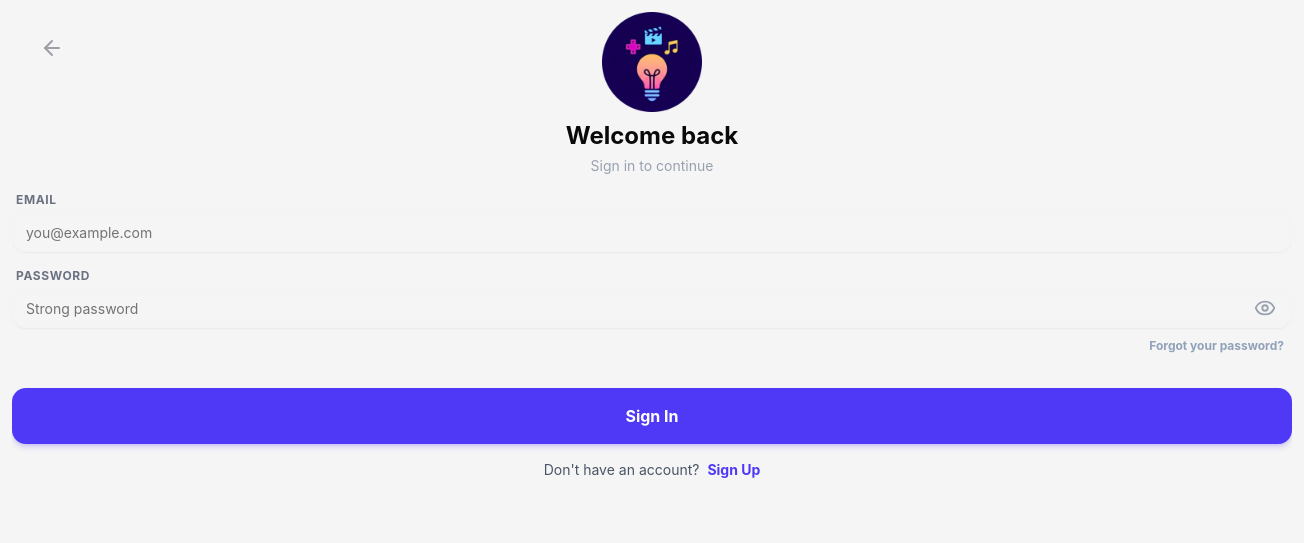
Test case: LoginEmail.vue › alterna para modo de registro quando o link de cadastro é clicado
Click the button "Sign Up" at (734, 470), box x1=707 y1=460 x2=760 y2=480
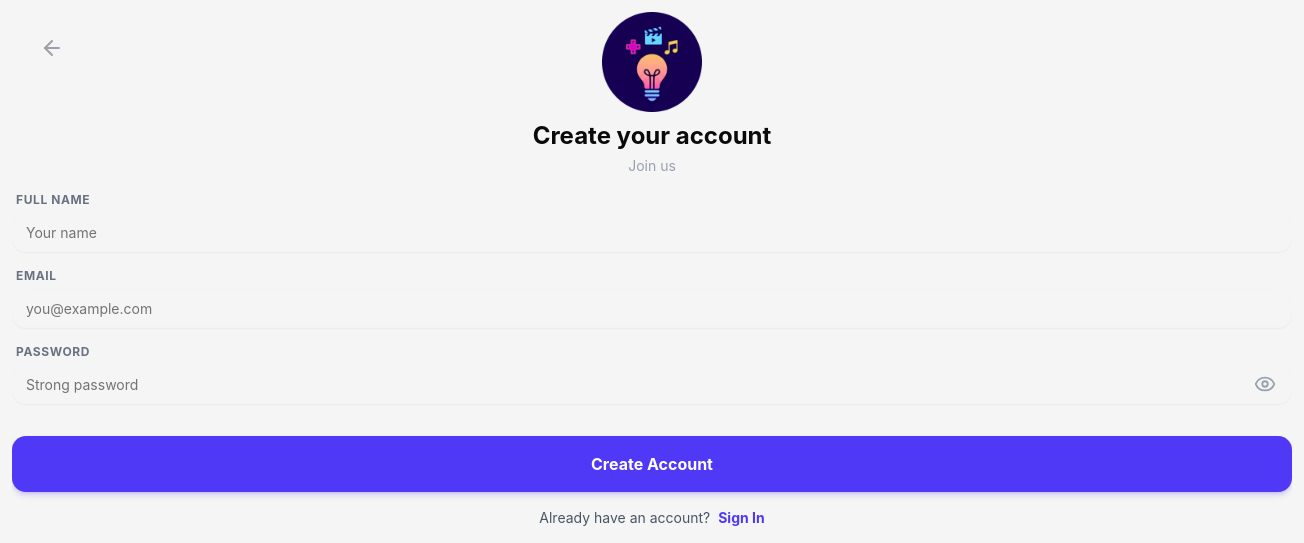
expect the text "Create Account" is shown: met, box x1=12 y1=436 x2=1292 y2=492
